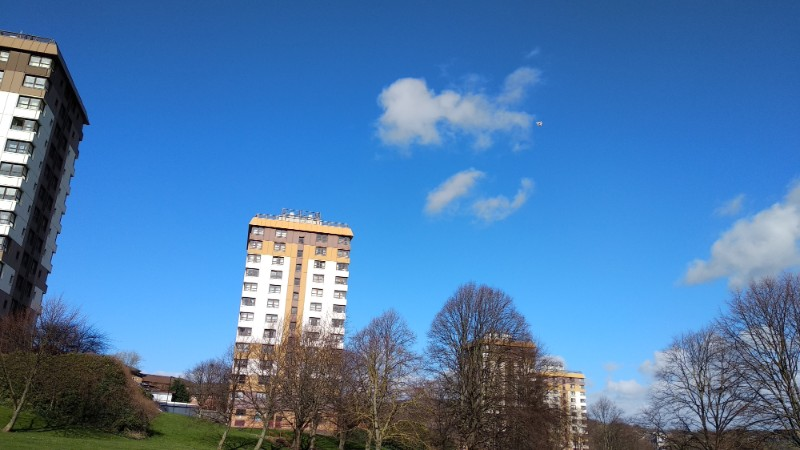drone: (535, 119, 543, 126)
